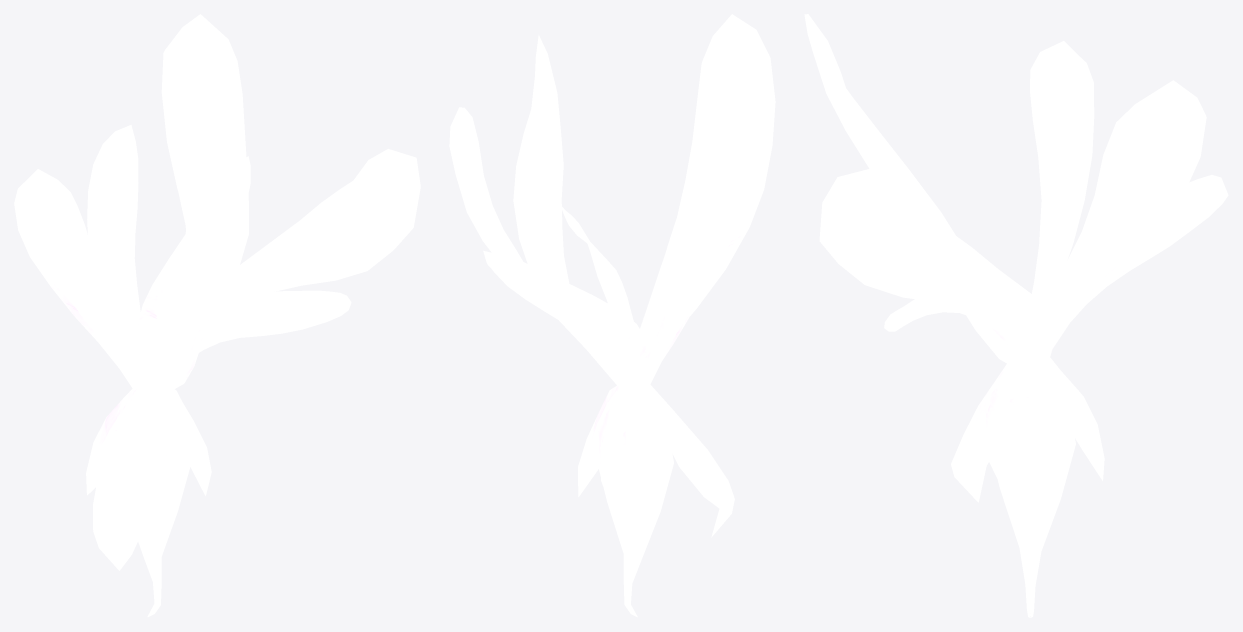
The picture shows the model from 3 angles, left to right: view 1: azimuth 30°, elevation 25°; view 2: azimuth 150°, elevation 25°; view 3: azimuth 270°, elevation 25°; orthographic projection. The views are drawn at different scales.
Parts seen in each view (by area): view 1: SM_Irit_v2_LOD0; view 2: SM_Irit_v2_LOD0; view 3: SM_Irit_v2_LOD0.
Boxes of the visible parts, x1,y1,x2,y2 form: SM_Irit_v2_LOD0: (14,14,420,616); SM_Irit_v2_LOD0: (449,14,775,617); SM_Irit_v2_LOD0: (804,14,1228,617).
Bounding box in the file's own units: 0.2377 × 0.4177 × 0.2654.
1 material, 1 textured.
